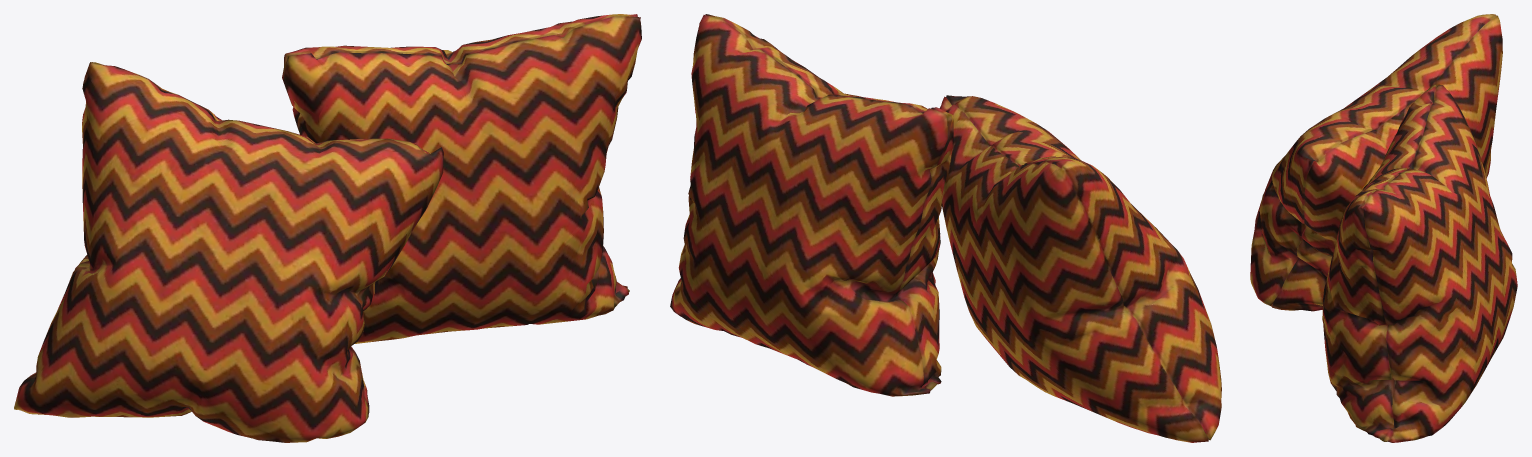
Rendered from throw_pillows_01.gltf.
The picture shows the model from 3 angles, left to right: view 1: azimuth 30°, elevation 25°; view 2: azimuth 150°, elevation 25°; view 3: azimuth 270°, elevation 25°; orthographic projection. The views are drawn at different scales.
Parts seen in each view (by area): view 1: throw_pillows_01_pillow01, throw_pillows_01_pillow02; view 2: throw_pillows_01_pillow02, throw_pillows_01_pillow01; view 3: throw_pillows_01_pillow02, throw_pillows_01_pillow01.
Boxes of the visible parts, x1,y1,x2,y2 form: throw_pillows_01_pillow01: [14, 62, 443, 442]; throw_pillows_01_pillow02: [282, 14, 641, 343]; throw_pillows_01_pillow02: [670, 14, 953, 396]; throw_pillows_01_pillow01: [939, 95, 1221, 442]; throw_pillows_01_pillow02: [1322, 84, 1517, 442]; throw_pillows_01_pillow01: [1250, 14, 1502, 311].
Bounding box in the file's own units: 0.9401 × 0.4502 × 0.4519.
1 material, 1 textured.
